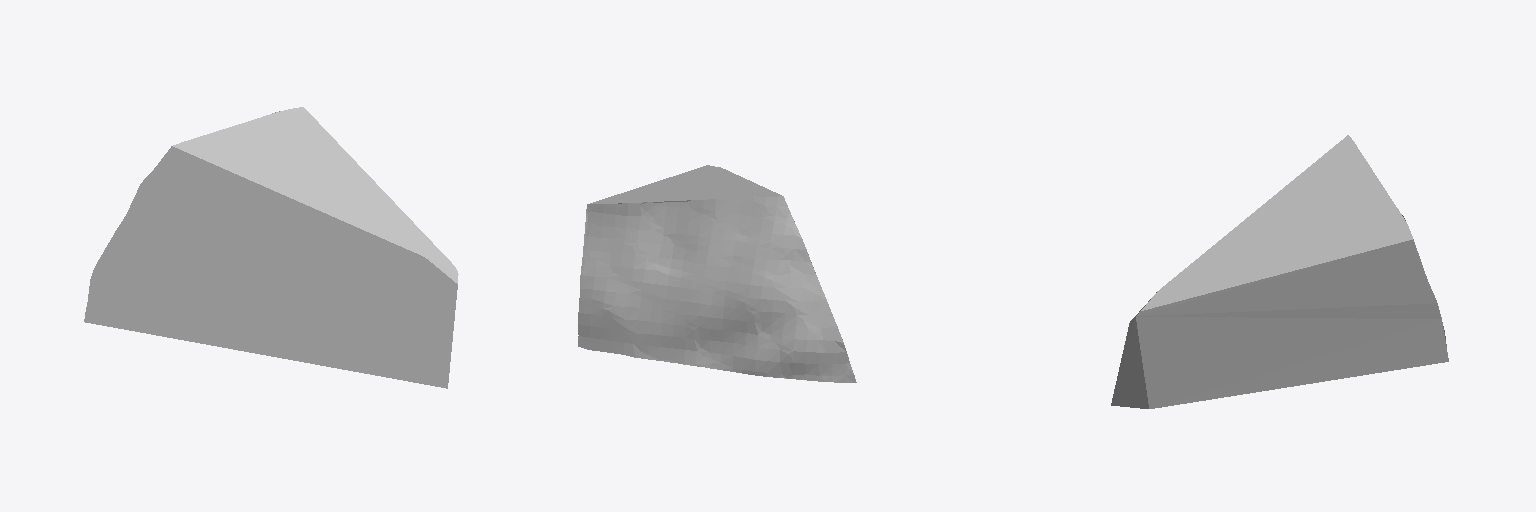
File: low_cell_013.obj
3 renders of one model, left to right at view 1: azimuth 30°, elevation 25°; view 2: azimuth 150°, elevation 25°; view 3: azimuth 270°, elevation 25°, orthographic.
Parts seen in each view (by area): view 1: low_cell.013_low_cell.012; view 2: low_cell.013_low_cell.012; view 3: low_cell.013_low_cell.012.
Boxes of the visible parts, x1,y1,x2,y2 form: low_cell.013_low_cell.012: [84, 107, 458, 388]; low_cell.013_low_cell.012: [578, 165, 856, 382]; low_cell.013_low_cell.012: [1111, 135, 1448, 408].
Bounding box in the file's own units: 0.4882 × 0.3474 × 0.5484.